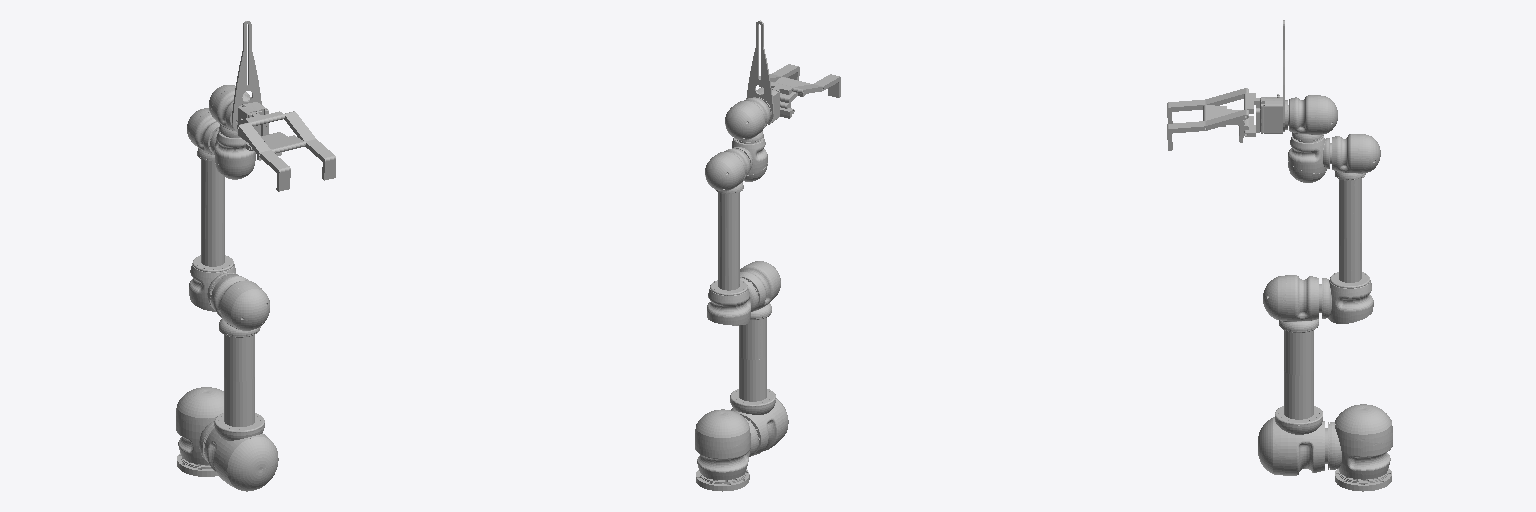
The robot description file, URDF, robot "191021MR5.SLDASM":
<robot
  name="191021MR5.SLDASM">
  <link
    name="Base_Link">
    <inertial>
      <origin
        xyz="2.2716E-05 1.4182E-08 0.0058667"
        rpy="0 0 0" />
      <mass
        value="0.13935" />
      <inertia
        ixx="0"
        ixy="0"
        ixz="0"
        iyy="0"
        iyz="0"
        izz="0" />
    </inertial>
    <visual>
      <origin
        xyz="0 0 0"
        rpy="0 0 0" />
      <geometry>
        <mesh
          filename="package://191021MR5.SLDASM/meshes/Base_Link.STL" />
      </geometry>
      <material
        name="">
        <color
          rgba="0.75294 0.75294 0.75294 1" />
      </material>
    </visual>
    <collision>
      <origin
        xyz="0 0 0"
        rpy="0 0 0" />
      <geometry>
        <mesh
          filename="package://191021MR5.SLDASM/meshes/Base_Link.STL" />
      </geometry>
    </collision>
  </link>
  <link
    name="Link1">
    <inertial>
      <origin
        xyz="-2.2065E-06 -0.010425 0.047723"
        rpy="0 0 0" />
      <mass
        value="0.82213" />
      <inertia
        ixx="0.0012698"
        ixy="-1.3651E-08"
        ixz="9.1896E-09"
        iyy="0.0011703"
        iyz="-6.1121E-05"
        izz="9.9506E-05" />
    </inertial>
    <visual>
      <origin
        xyz="0 0 0"
        rpy="0 0 0" />
      <geometry>
        <mesh
          filename="package://191021MR5.SLDASM/meshes/Link1.STL" />
      </geometry>
      <material
        name="">
        <color
          rgba="0.75294 0.75294 0.75294 1" />
      </material>
    </visual>
    <collision>
      <origin
        xyz="0 0 0"
        rpy="0 0 0" />
      <geometry>
        <mesh
          filename="package://191021MR5.SLDASM/meshes/Link1.STL" />
      </geometry>
    </collision>
  </link>
  <joint
    name="Joint1"
    type="revolute">
    <origin
      xyz="-0.00041285 0 0.027"
      rpy="0 0 0" />
    <parent
      link="Base_Link" />
    <child
      link="Link1" />
    <axis
      xyz="0 0 1" />
    <limit
      effort="0"
      velocity="0" />
  </joint>
  <link
    name="Link2">
    <inertial>
      <origin
        xyz="1.2982E-06 -0.051969 0.15827"
        rpy="0 0 0" />
      <mass
        value="1.6841" />
      <inertia
        ixx="0.04641"
        ixy="8.0107E-08"
        ixz="1.535E-07"
        iyy="0.0448"
        iyz="0.00067411"
        izz="0.0016102" />
    </inertial>
    <visual>
      <origin
        xyz="0 0 0"
        rpy="0 0 0" />
      <geometry>
        <mesh
          filename="package://191021MR5.SLDASM/meshes/Link2.STL" />
      </geometry>
      <material
        name="">
        <color
          rgba="0.75294 0.75294 0.75294 1" />
      </material>
    </visual>
    <collision>
      <origin
        xyz="0 0 0"
        rpy="0 0 0" />
      <geometry>
        <mesh
          filename="package://191021MR5.SLDASM/meshes/Link2.STL" />
      </geometry>
    </collision>
  </link>
  <joint
    name="Joint2"
    type="revolute">
    <origin
      xyz="0 -0.091885 0.06"
      rpy="0 0 0" />
    <parent
      link="Link1" />
    <child
      link="Link2" />
    <axis
      xyz="0 1 0" />
    <limit
      effort="0"
      velocity="0" />
  </joint>
  <link
    name="Link3">
    <inertial>
      <origin
        xyz="3.32536143180385E-07 0.0615729531368279 0.155533058771834"
        rpy="0 0 0" />
      <mass
        value="0.98230112631782" />
      <inertia
        ixx="0.0189819550362105"
        ixy="3.10240510672774E-08"
        ixz="1.71022764085144E-07"
        iyy="0.0188226520390792"
        iyz="-0.000117796335989016"
        izz="0.000159303021328198" />
    </inertial>
    <visual>
      <origin
        xyz="0 0 0"
        rpy="0 0 0" />
      <geometry>
        <mesh
          filename="package://191021MR5.SLDASM/meshes/Link3.STL" />
      </geometry>
      <material
        name="">
        <color
          rgba="0.752941176470588 0.752941176470588 0.752941176470588 1" />
      </material>
    </visual>
    <collision>
      <origin
        xyz="0 0 0"
        rpy="0 0 0" />
      <geometry>
        <mesh
          filename="package://191021MR5.SLDASM/meshes/Link3.STL" />
      </geometry>
    </collision>
  </link>
  <joint
    name="Joint3"
    type="revolute">
    <origin
      xyz="0 -0.0065 0.38388"
      rpy="0 0 0" />
    <parent
      link="Link2" />
    <child
      link="Link3" />
    <axis
      xyz="0 1 0" />
    <limit
      effort="0"
      velocity="0" />
  </joint>
  <link
    name="Link4">
    <inertial>
      <origin
        xyz="5.79292420657142E-07 -0.0470319002859306 0.00891972870701374"
        rpy="0 0 0" />
      <mass
        value="0.23644132750411" />
      <inertia
        ixx="0.000147037590267084"
        ixy="8.03652582512052E-09"
        ixz="2.48900088533533E-08"
        iyy="0.000136894555463898"
        iyz="-6.35149193323197E-06"
        izz="1.01430537193422E-05" />
    </inertial>
    <visual>
      <origin
        xyz="0 0 0"
        rpy="0 0 0" />
      <geometry>
        <mesh
          filename="package://191021MR5.SLDASM/meshes/Link4.STL" />
      </geometry>
      <material
        name="">
        <color
          rgba="0.752941176470588 0.752941176470588 0.752941176470588 1" />
      </material>
    </visual>
    <collision>
      <origin
        xyz="0 0 0"
        rpy="0 0 0" />
      <geometry>
        <mesh
          filename="package://191021MR5.SLDASM/meshes/Link4.STL" />
      </geometry>
    </collision>
  </link>
  <joint
    name="Joint4"
    type="revolute">
    <origin
      xyz="0 0.02 0.3765"
      rpy="0 0 0" />
    <parent
      link="Link3" />
    <child
      link="Link4" />
    <axis
      xyz="0 1 0" />
    <limit
      effort="0"
      velocity="0" />
  </joint>
  <link
    name="Link5">
    <inertial>
      <origin
        xyz="-5.79292558179406E-07 -0.00891972870701405 0.0470319002859311"
        rpy="0 0 0" />
      <mass
        value="0.236441327504109" />
      <inertia
        ixx="0.000147037590267086"
        ixy="2.48900087540034E-08"
        ixz="8.0365258207577E-09"
        iyy="1.01430537193419E-05"
        iyz="-6.35149193323599E-06"
        izz="0.0001368945554639" />
    </inertial>
    <visual>
      <origin
        xyz="0 0 0"
        rpy="0 0 0" />
      <geometry>
        <mesh
          filename="package://191021MR5.SLDASM/meshes/Link5.STL" />
      </geometry>
      <material
        name="">
        <color
          rgba="0.752941176470588 0.752941176470588 0.752941176470588 1" />
      </material>
    </visual>
    <collision>
      <origin
        xyz="0 0 0"
        rpy="0 0 0" />
      <geometry>
        <mesh
          filename="package://191021MR5.SLDASM/meshes/Link5.STL" />
      </geometry>
    </collision>
  </link>
  <joint
    name="Joint5"
    type="revolute">
    <origin
      xyz="0 -0.052500000000007 0.0477499999457901"
      rpy="0 0 0" />
    <parent
      link="Link4" />
    <child
      link="Link5" />
    <axis
      xyz="0 0 1" />
  </joint>
  <link
    name="Gripper">
    <inertial>
      <origin
        xyz="-8.16087745465083E-07 -0.103592357705251 0.00378110908229212"
        rpy="0 0 0" />
      <mass
        value="0.615509551415261" />
      <inertia
        ixx="0.00356137129682163"
        ixy="-5.24952668709655E-07"
        ixz="9.17336024605919E-06"
        iyy="0.000881606494233563"
        iyz="-0.000414706577528412"
        izz="0.00387514661031009" />
    </inertial>
    <visual>
      <origin
        xyz="0 0 0"
        rpy="0 0 0" />
      <geometry>
        <mesh
          filename="package://191021MR5.SLDASM/meshes/Gripper.STL" />
      </geometry>
      <material
        name="">
        <color
          rgba="0.752941176470588 0.752941176470588 0.752941176470588 1" />
      </material>
    </visual>
    <collision>
      <origin
        xyz="0 0 0"
        rpy="0 0 0" />
      <geometry>
        <mesh
          filename="package://191021MR5.SLDASM/meshes/Gripper.STL" />
      </geometry>
    </collision>
  </link>
  <joint
    name="Joint6"
    type="revolute">
    <origin
      xyz="0 -0.04775 0.0525"
      rpy="0 0 0" />
    <parent
      link="Link5" />
    <child
      link="Gripper" />
    <axis
      xyz="0 1 0" />
    <limit
      effort="0"
      velocity="0" />
  </joint>
</robot>

--- Facts derived from the render (not from the file) ---
3 views of the same robot in one strip: view 1: azimuth 30°, elevation 25°; view 2: azimuth 150°, elevation 25°; view 3: azimuth 270°, elevation 25° (orthographic).
Model 191021MR5.SLDASM with 7 links and 6 joints (6 revolute), rooted at Base_Link, posed all joints at 0.
Visible links, largest first — view 1: Link2, Gripper, Link3, Link1, Link4, Link5; view 2: Link2, Link3, Link1, Gripper, Link5, Link4; view 3: Link2, Link3, Link1, Gripper, Link5, Link4.
Boxes of the visible links, x1,y1,x2,y2 form: Link2: [202, 273, 278, 491]; Gripper: [232, 21, 335, 191]; Link3: [187, 108, 237, 311]; Link1: [176, 387, 223, 468]; Link4: [210, 129, 255, 179]; Link5: [209, 85, 250, 135]; Link2: [730, 261, 788, 455]; Link3: [705, 148, 757, 325]; Link1: [695, 409, 758, 483]; Gripper: [746, 20, 840, 124]; Link5: [725, 97, 771, 141]; Link4: [732, 137, 767, 181]; Link2: [1258, 275, 1329, 475]; Link3: [1323, 134, 1380, 323]; Link1: [1330, 404, 1392, 483]; Gripper: [1167, 20, 1284, 150]; Link5: [1285, 95, 1337, 140]; Link4: [1288, 134, 1329, 182].
Bounding box of the posed robot: 0.15 × 0.5343 × 1.19 m (x, y, z).
7 mesh visuals loaded from 7 distinct referenced files (7 binary STL).